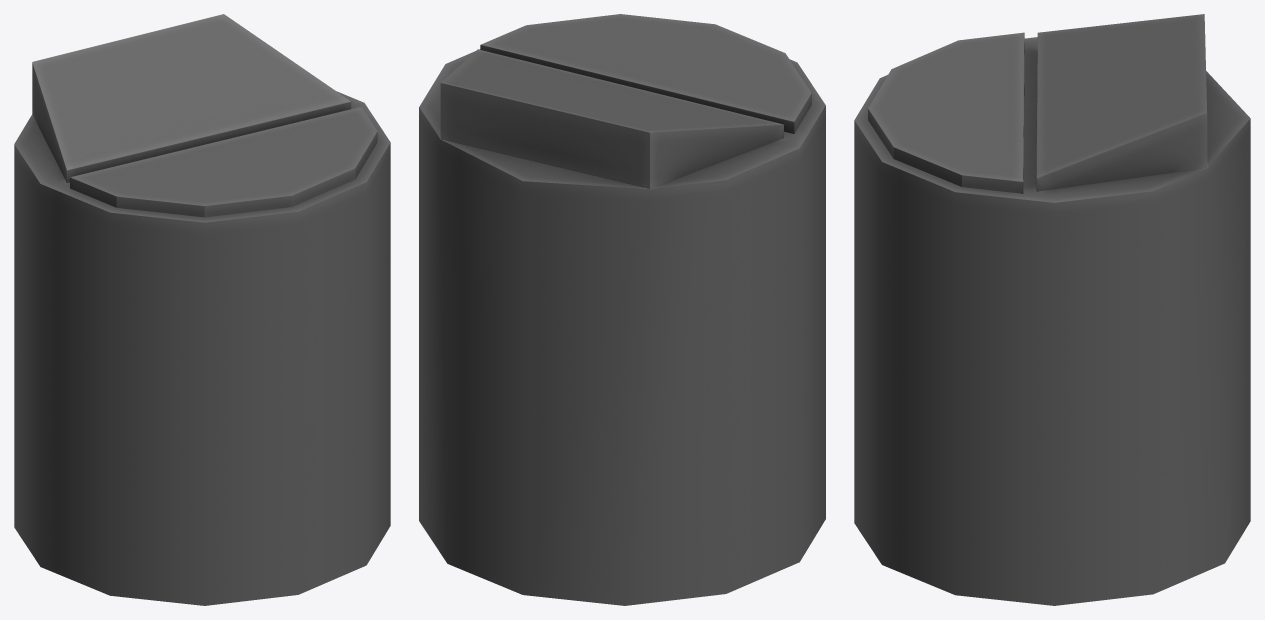
Rendered from frl_apartment_kitchen_utensil_08.glb.
The picture shows the model from 3 angles, left to right: view 1: azimuth 30°, elevation 25°; view 2: azimuth 150°, elevation 25°; view 3: azimuth 270°, elevation 25°; orthographic projection. The views are drawn at different scales.
Parts seen in each view (by area): view 1: frl_apartment_kitchen_utensil_08; view 2: frl_apartment_kitchen_utensil_08; view 3: frl_apartment_kitchen_utensil_08.
Part boxes in pixels (left/top/right/bottom): frl_apartment_kitchen_utensil_08: left=14, top=14, right=390, bottom=605; frl_apartment_kitchen_utensil_08: left=419, top=14, right=825, bottom=605; frl_apartment_kitchen_utensil_08: left=854, top=14, right=1250, bottom=605.
Bounding box in the file's own units: 0.1177 × 0.1502 × 0.1177.
1 material, 1 textured.
